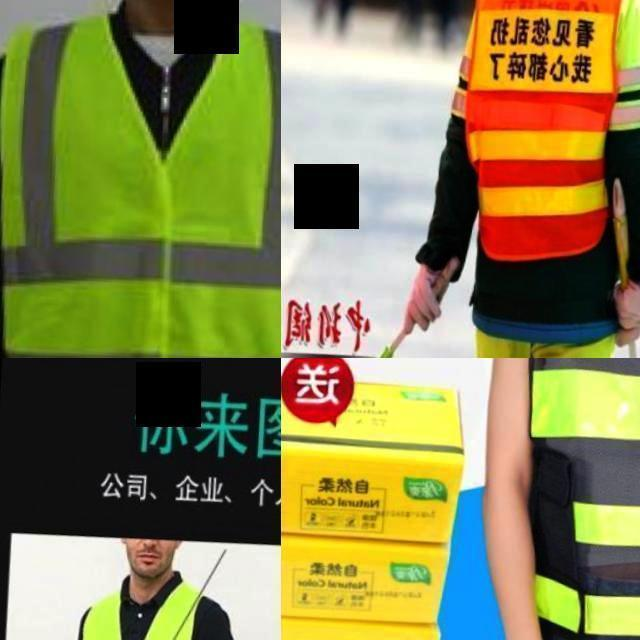vest: (0, 19, 281, 358), (444, 0, 634, 270), (469, 358, 640, 640)
